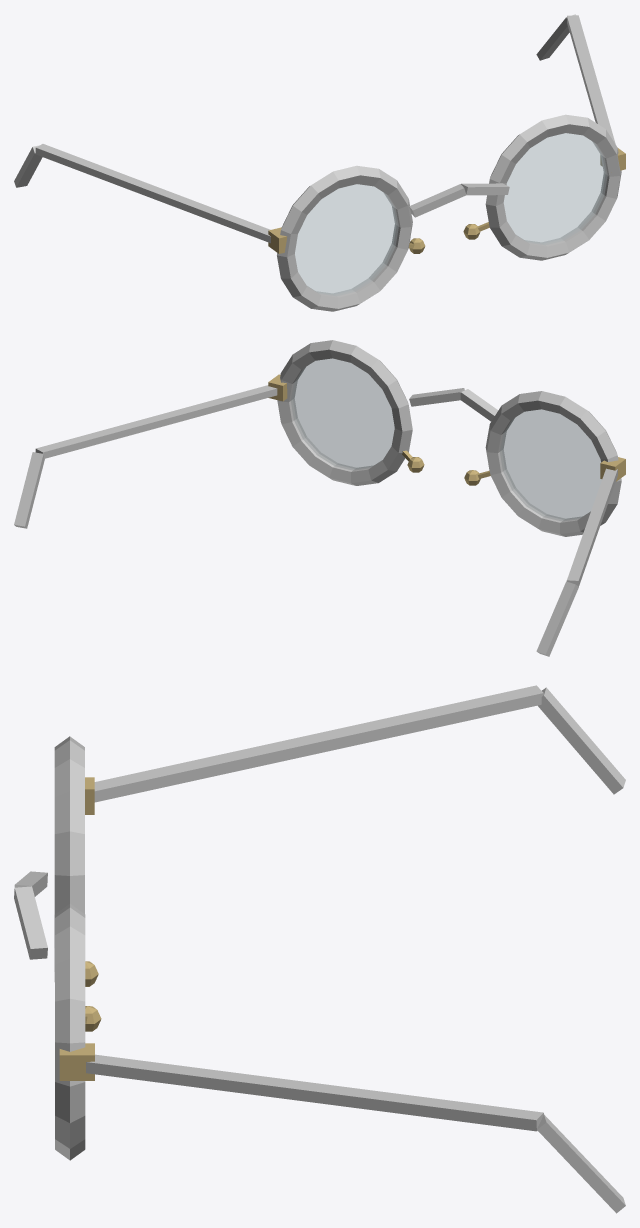
The model's file is acc_glasses_v01.glb.
The picture shows the model from 3 angles, top to bottom: view 1: azimuth 30°, elevation 25°; view 2: azimuth 150°, elevation 25°; view 3: azimuth 270°, elevation 25°; orthographic projection. The views are drawn at different scales.
Parts seen in each view (by area): view 1: acc_glasses; view 2: acc_glasses; view 3: acc_glasses.
Part boxes in pixels (<box>): acc_glasses: <box>14,14,625,311</box>; acc_glasses: <box>14,340,625,656</box>; acc_glasses: <box>14,685,625,1213</box>.
Bounding box in the file's own units: 0.5836 × 0.1438 × 0.3462.
